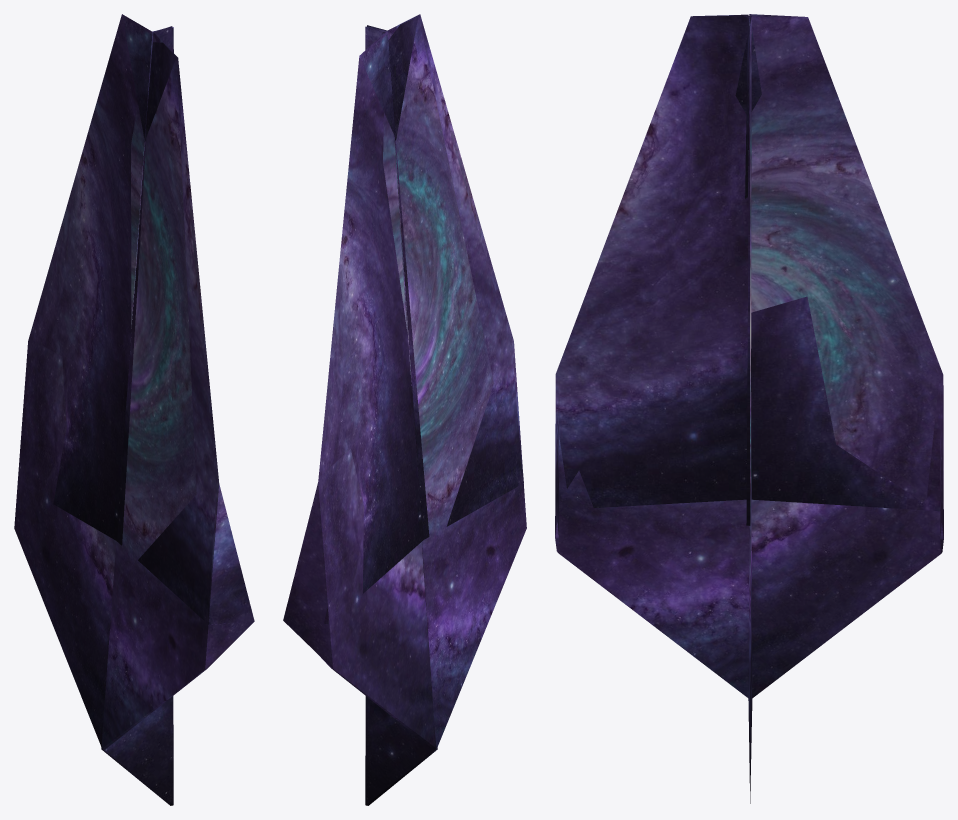
3 views of the same model, side by side, from view 1: azimuth 30°, elevation 25°; view 2: azimuth 150°, elevation 25°; view 3: azimuth 270°, elevation 25° (orthographic).
Visible parts, largest first — view 1: Origami_Model_49.001; view 2: Origami_Model_49.001; view 3: Origami_Model_49.001.
Boxes of the visible parts, x1,y1,x2,y2 form: Origami_Model_49.001: (14, 14, 254, 805); Origami_Model_49.001: (283, 14, 526, 805); Origami_Model_49.001: (555, 14, 943, 803).
Size of the model in its own units: 0.0223 by 0.2319 by 0.1045.
Materials: 1 (1 with a texture image).
